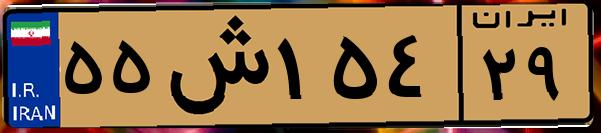1: (270, 28, 330, 110)
2: (475, 38, 525, 113)
4: (385, 28, 445, 110)
5: (330, 28, 385, 110), (57, 26, 110, 100), (110, 28, 158, 98)
9: (525, 38, 570, 115)
ش: (158, 12, 270, 120)
